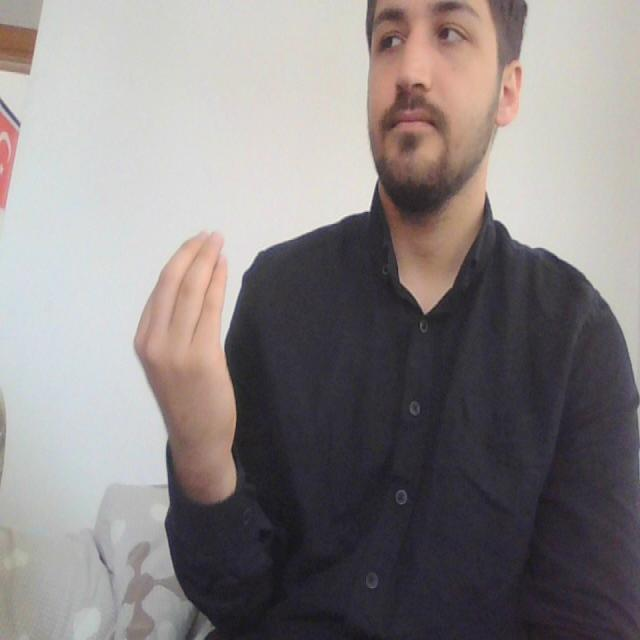iyi: (128, 205, 236, 367)
